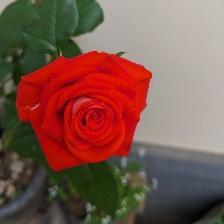rose: (16, 52, 155, 174)
